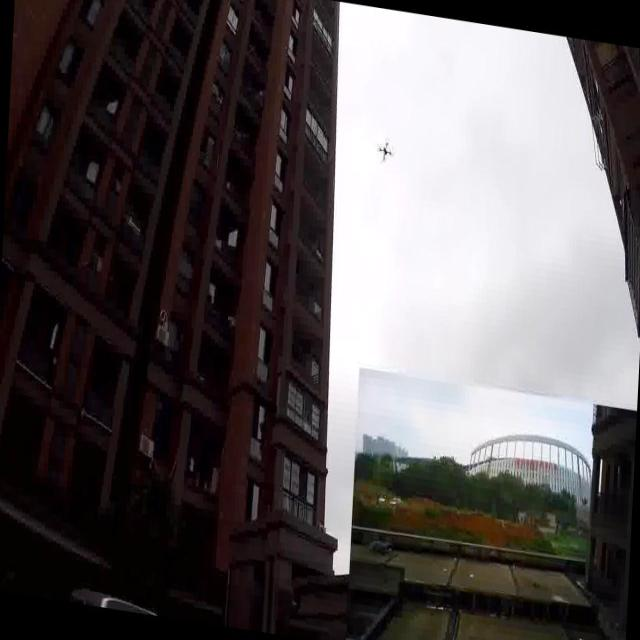drone: (374, 132, 396, 169)
